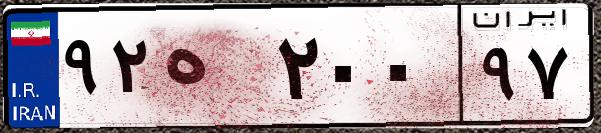0: (385, 28, 445, 110), (330, 28, 385, 110)
2: (270, 28, 330, 110), (110, 28, 158, 98)
7: (525, 38, 570, 115)
9: (57, 26, 110, 100), (475, 38, 525, 113)
ه: (158, 20, 270, 120)
